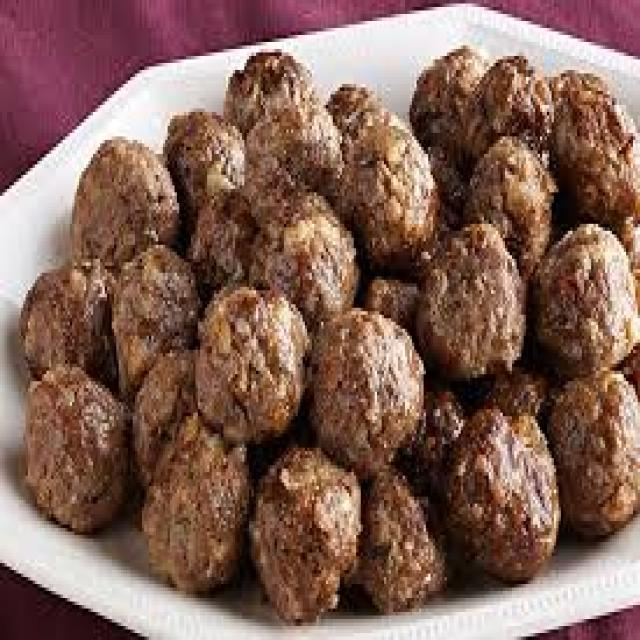Meatball: (239, 440, 365, 621), (438, 404, 568, 579), (314, 299, 436, 468), (192, 271, 314, 438), (18, 358, 131, 532), (137, 420, 248, 587), (61, 134, 182, 279), (531, 220, 640, 370), (542, 368, 640, 530), (252, 186, 361, 327), (334, 118, 438, 265), (417, 227, 525, 368), (110, 241, 206, 396), (354, 468, 454, 616), (460, 129, 555, 260), (20, 252, 115, 377)
